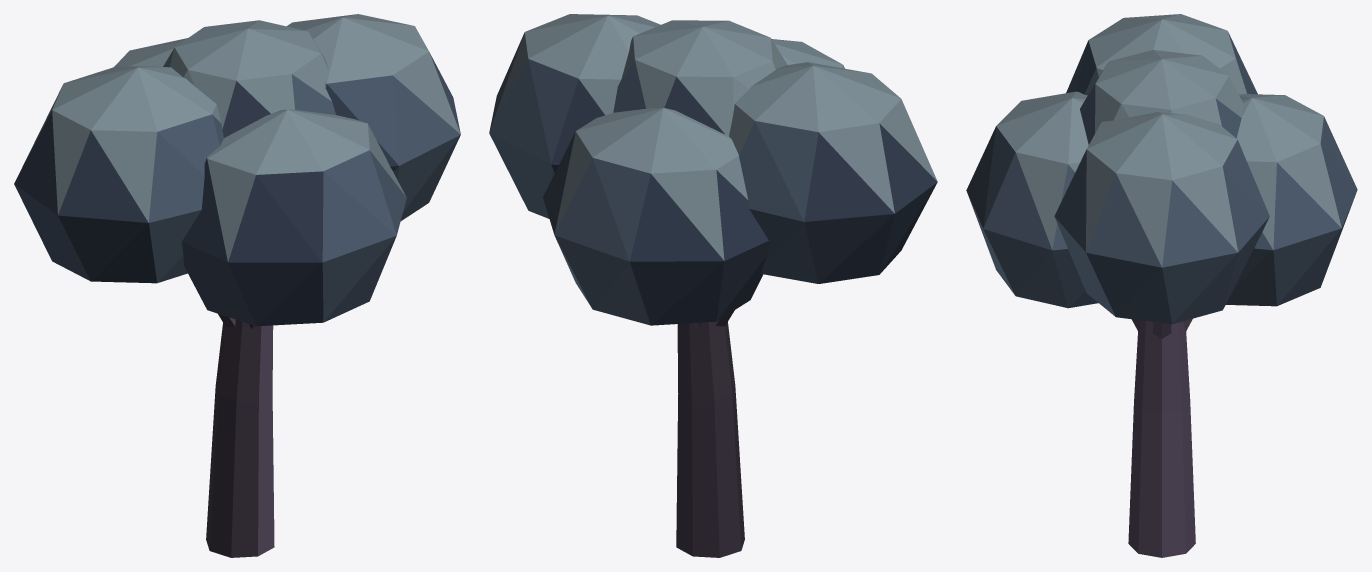
The model's file is TW_TREE_ROUND_BROAD_A_LOD0.glb.
3 views of the same model, side by side, from view 1: azimuth 30°, elevation 25°; view 2: azimuth 150°, elevation 25°; view 3: azimuth 270°, elevation 25° (orthographic). The views are drawn at different scales.
Parts seen in each view (by area): view 1: TW_TREE_ROUND_BROAD_A_LOD0; view 2: TW_TREE_ROUND_BROAD_A_LOD0; view 3: TW_TREE_ROUND_BROAD_A_LOD0.
Part boxes in pixels (box(x1,y1,x2,y2)): TW_TREE_ROUND_BROAD_A_LOD0: box(14, 14, 460, 557); TW_TREE_ROUND_BROAD_A_LOD0: box(489, 14, 937, 557); TW_TREE_ROUND_BROAD_A_LOD0: box(966, 14, 1357, 557).
Bounding box in the file's own units: 2.94 × 3.45 × 2.51.
1 material, 1 textured.
